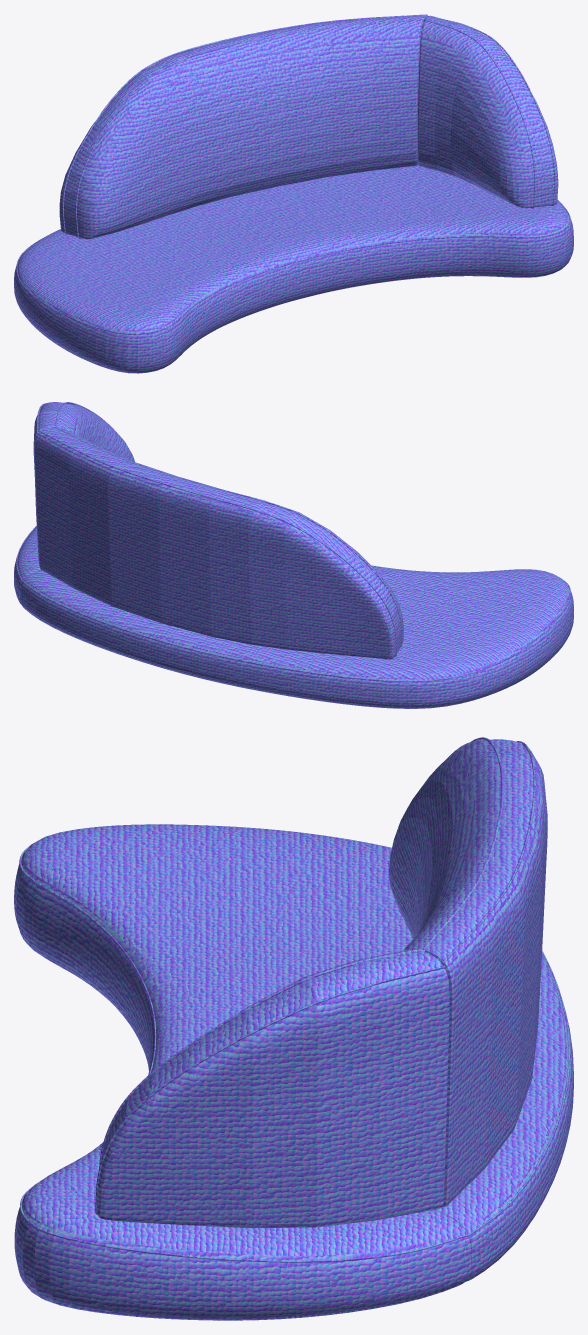
The model's file is levante_recamiere_mirror.gltf.
3 renders of one model, top to bottom at view 1: azimuth 30°, elevation 25°; view 2: azimuth 150°, elevation 25°; view 3: azimuth 270°, elevation 25°, orthographic. The views are drawn at different scales.
Parts seen in each view (by area): view 1: recamiere002; view 2: recamiere002; view 3: recamiere002.
Part boxes in pixels (left/top/right/bottom): recamiere002: left=14, top=14, right=573, bottom=373; recamiere002: left=14, top=402, right=573, bottom=708; recamiere002: left=14, top=737, right=573, bottom=1320.
Size of the model in its own units: 1.86 by 0.652 by 1.01.
Materials: 1 (1 with a texture image).
